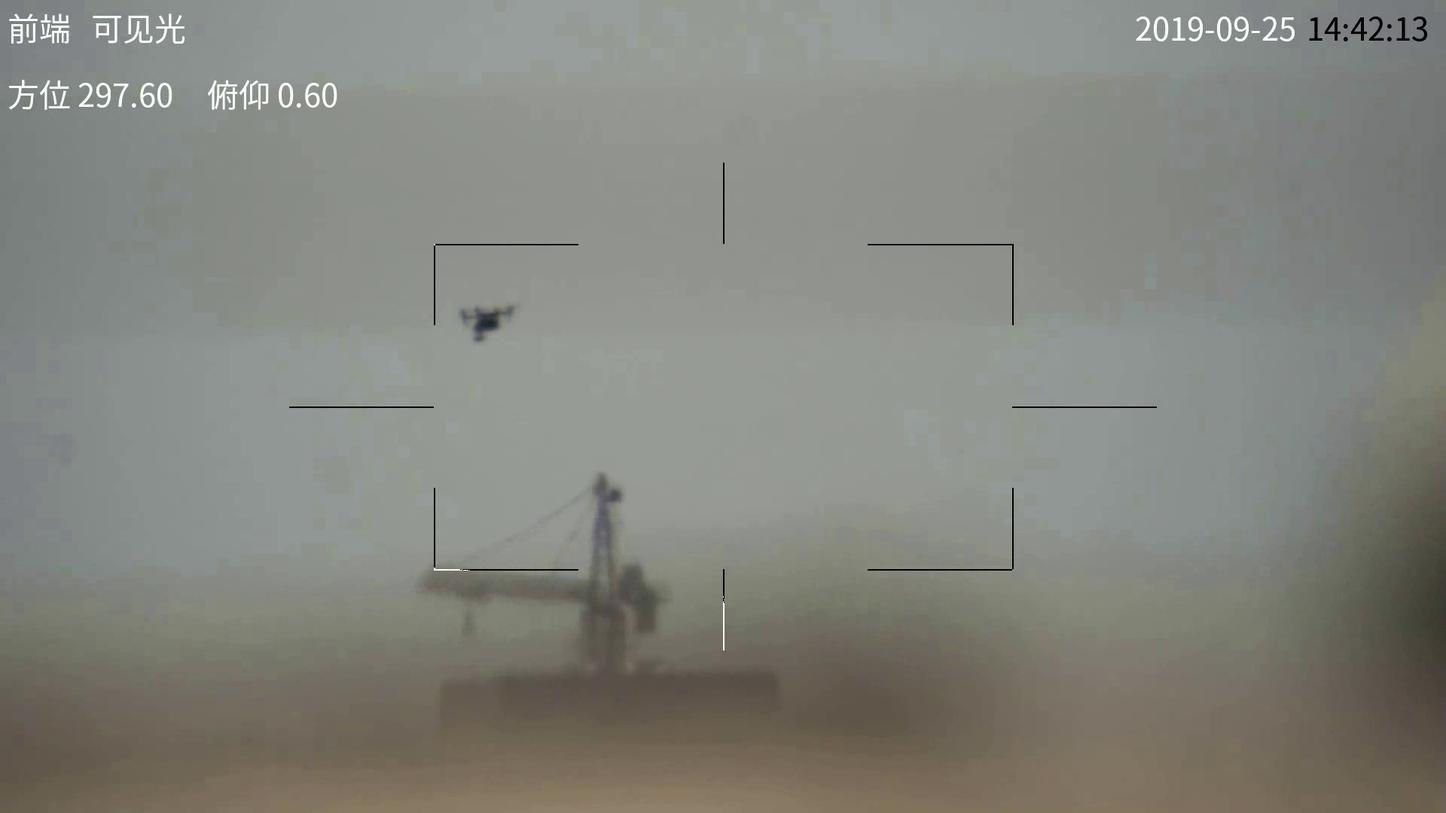drone_other: (457, 302, 531, 346)
